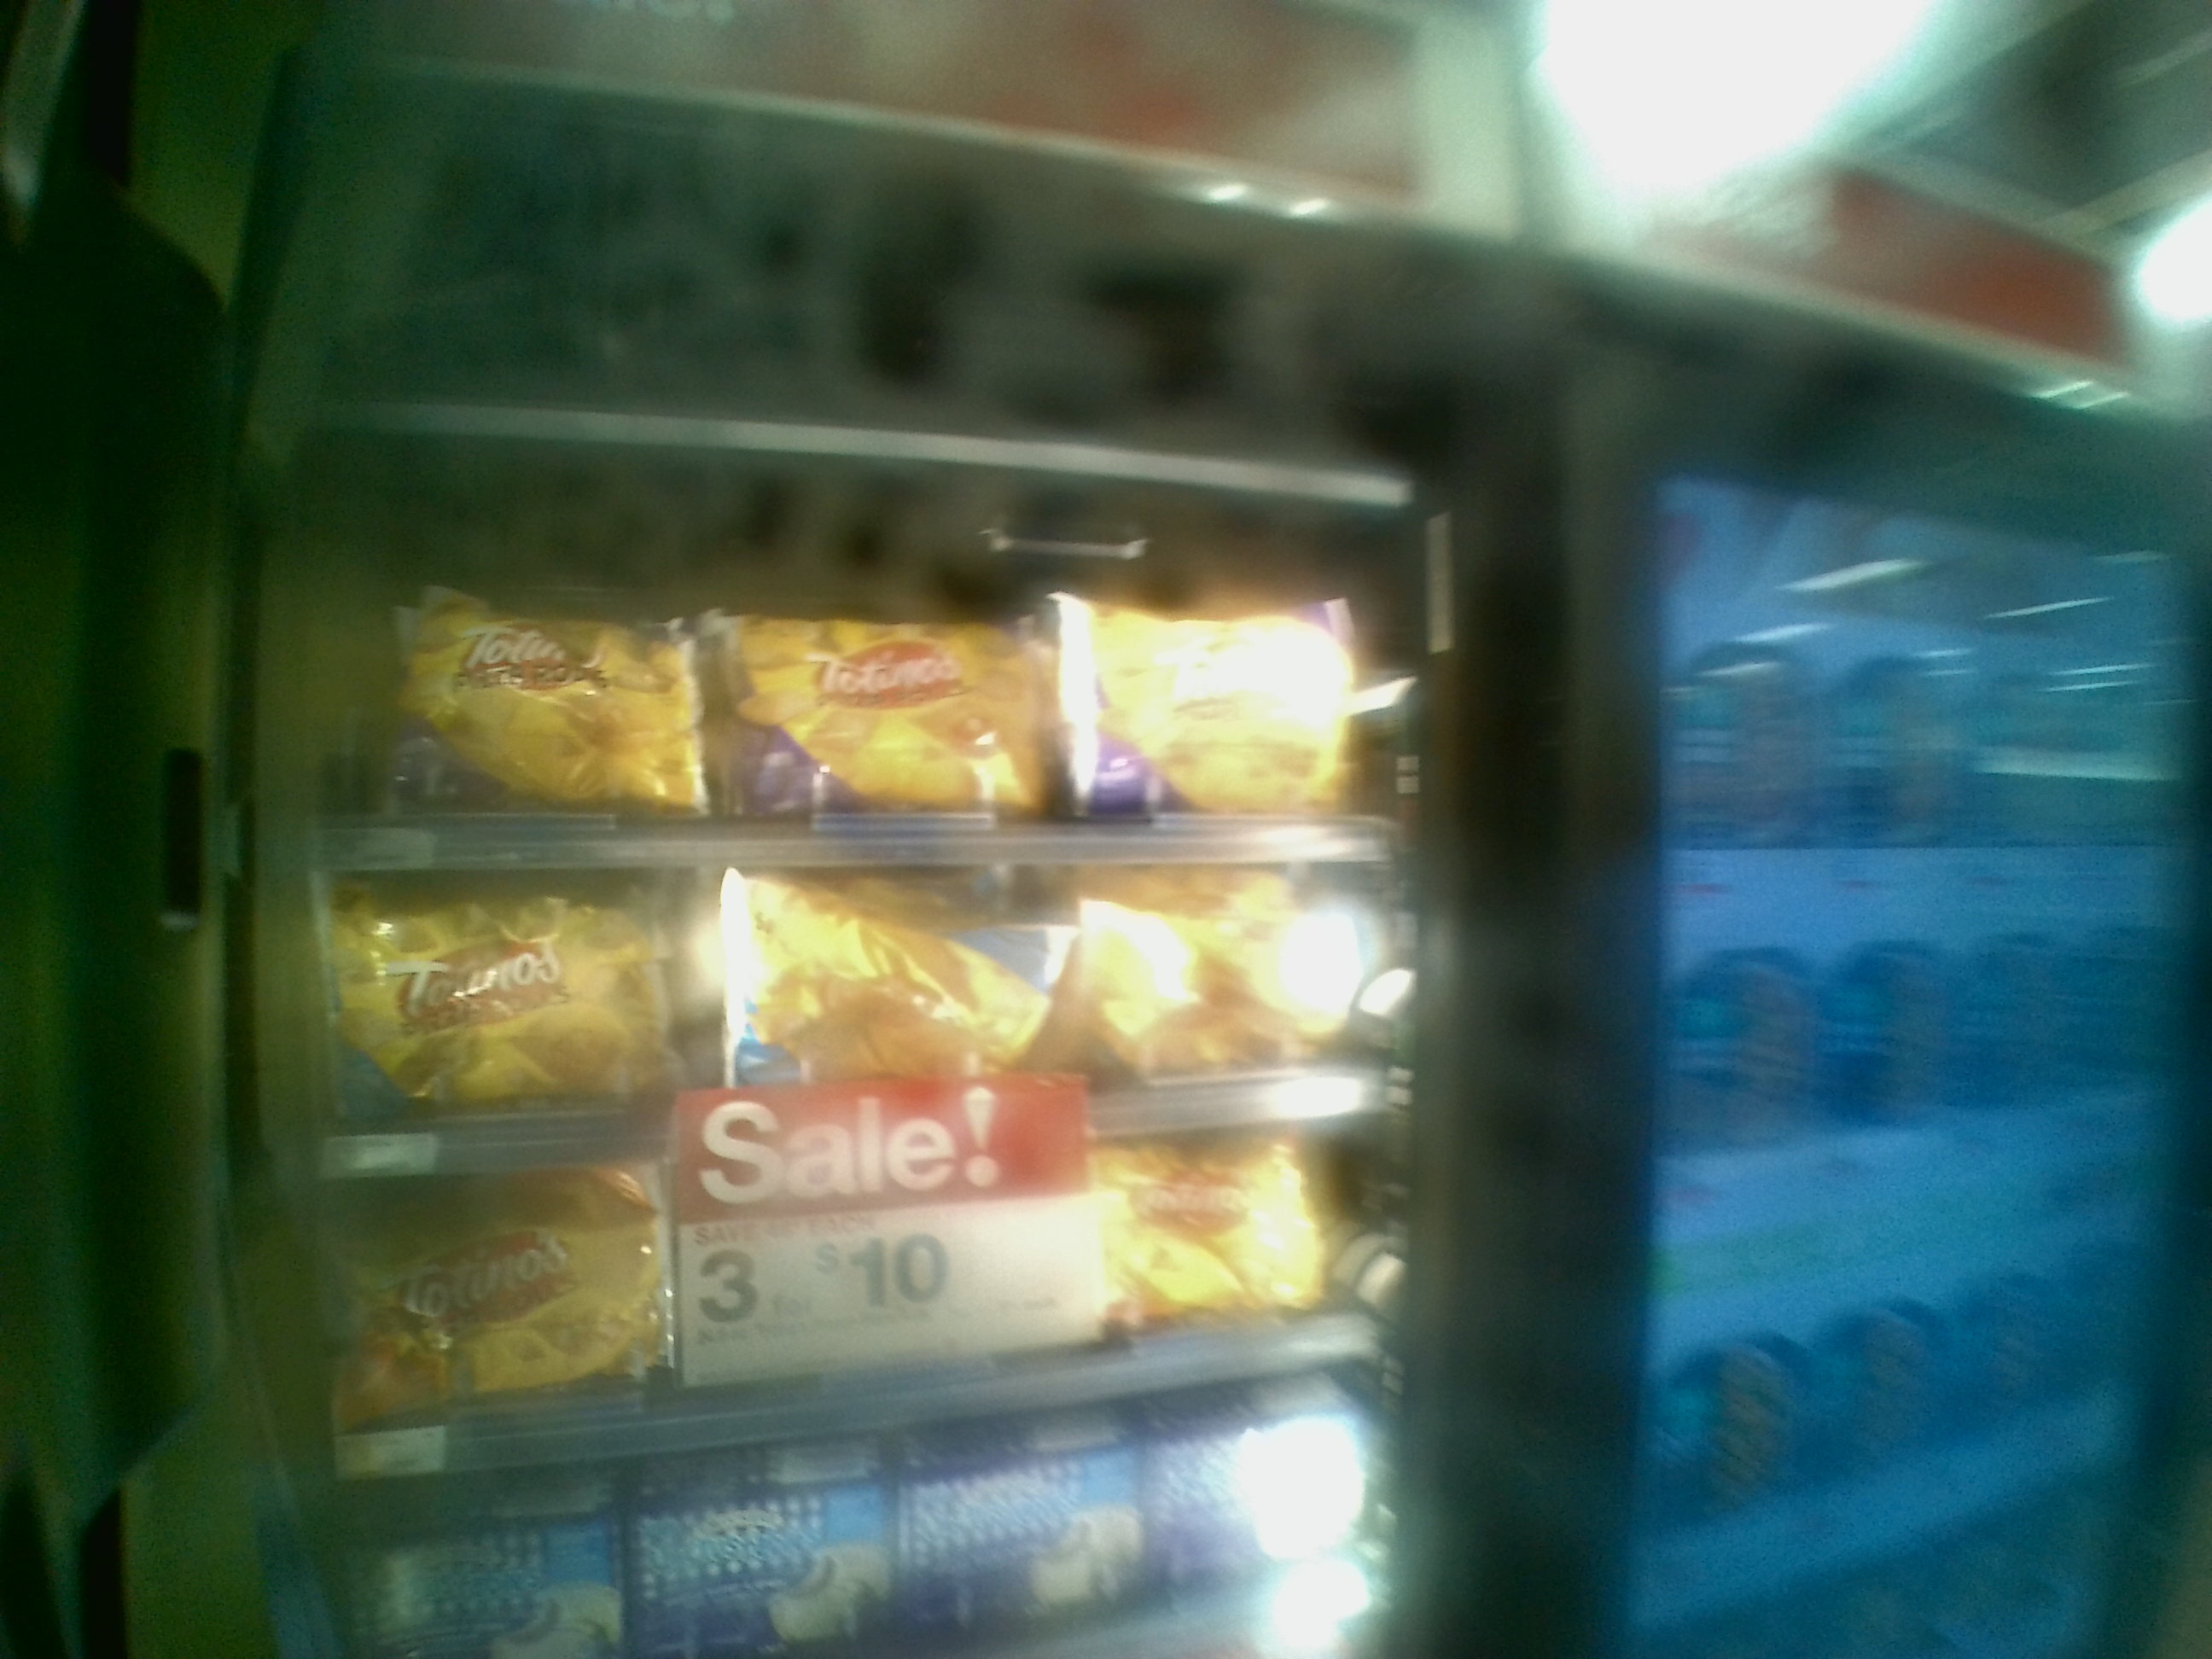shelf: (320, 511, 1390, 873), (314, 849, 1418, 1173)
